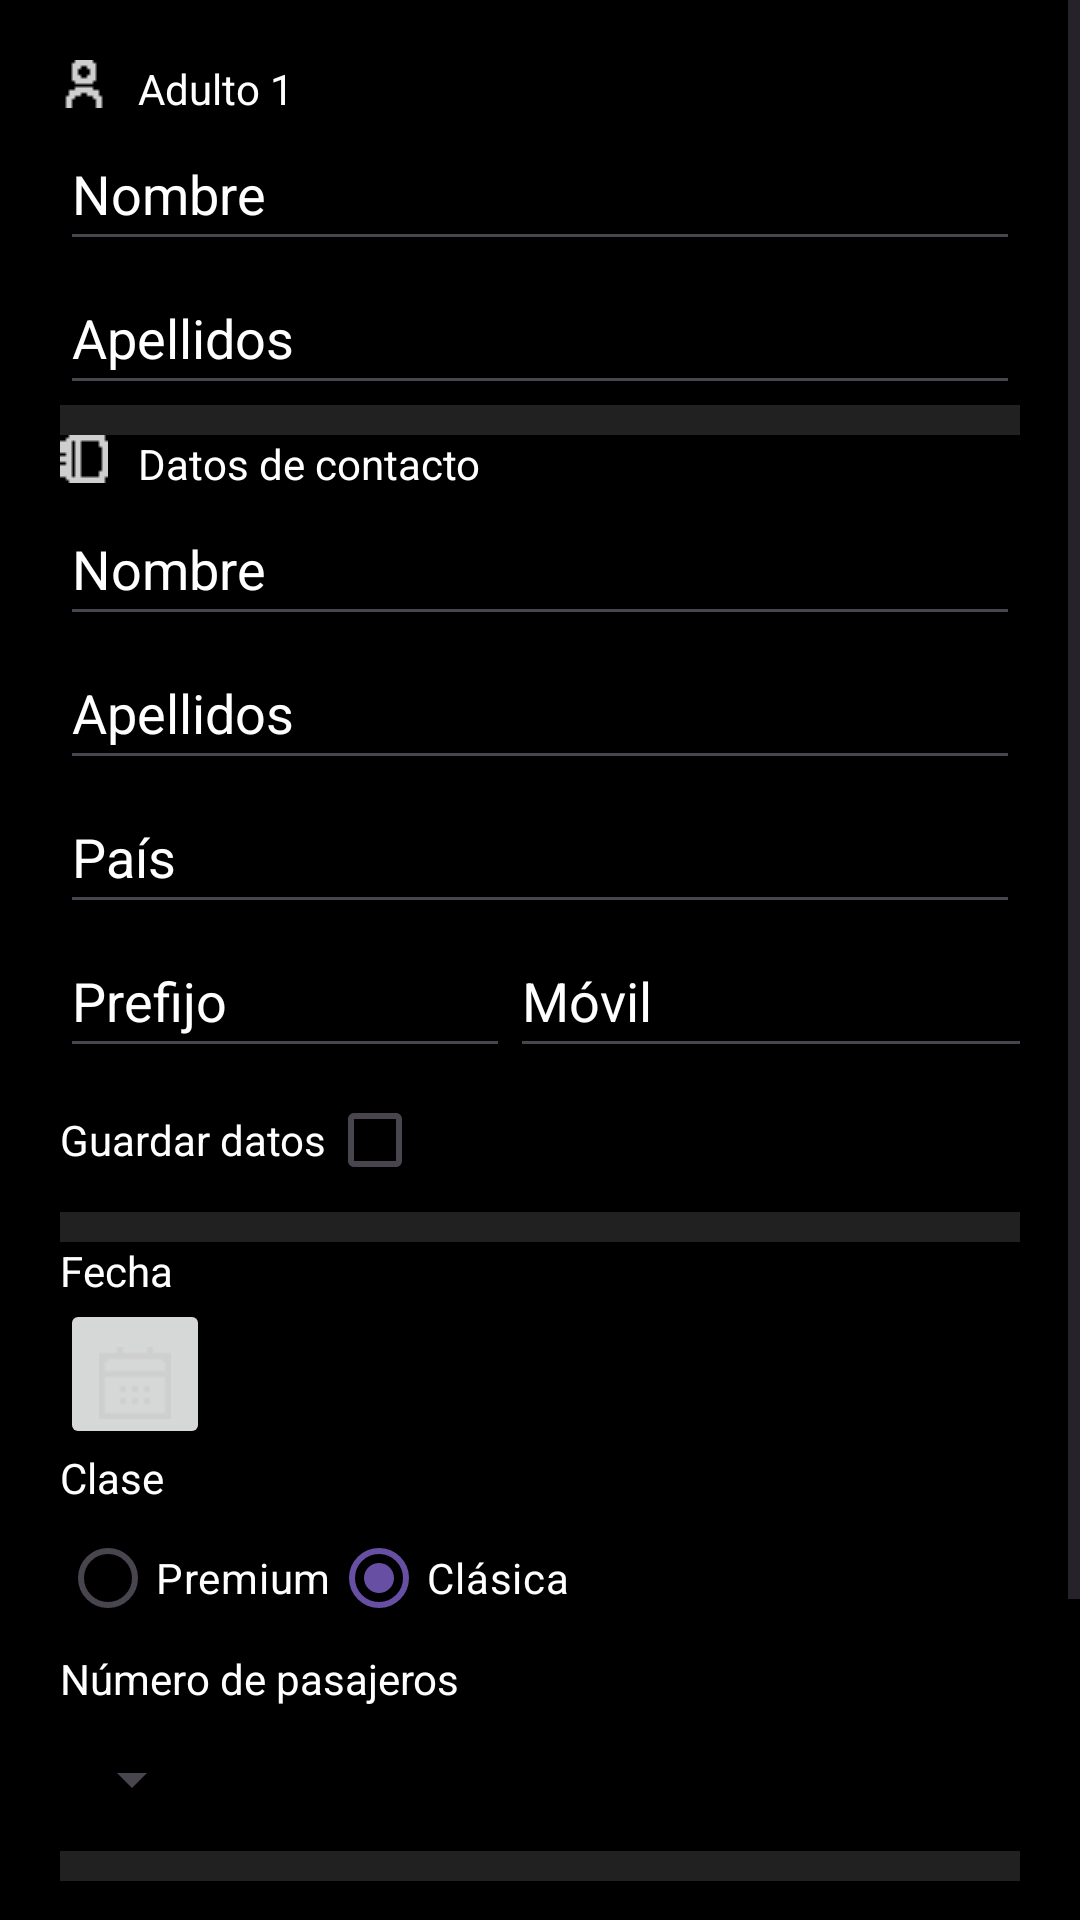

Where to tap for icons on this 1080x1920 app screen, as (x,y):
cuaderno: (84,459)
usuario: (84,84)
